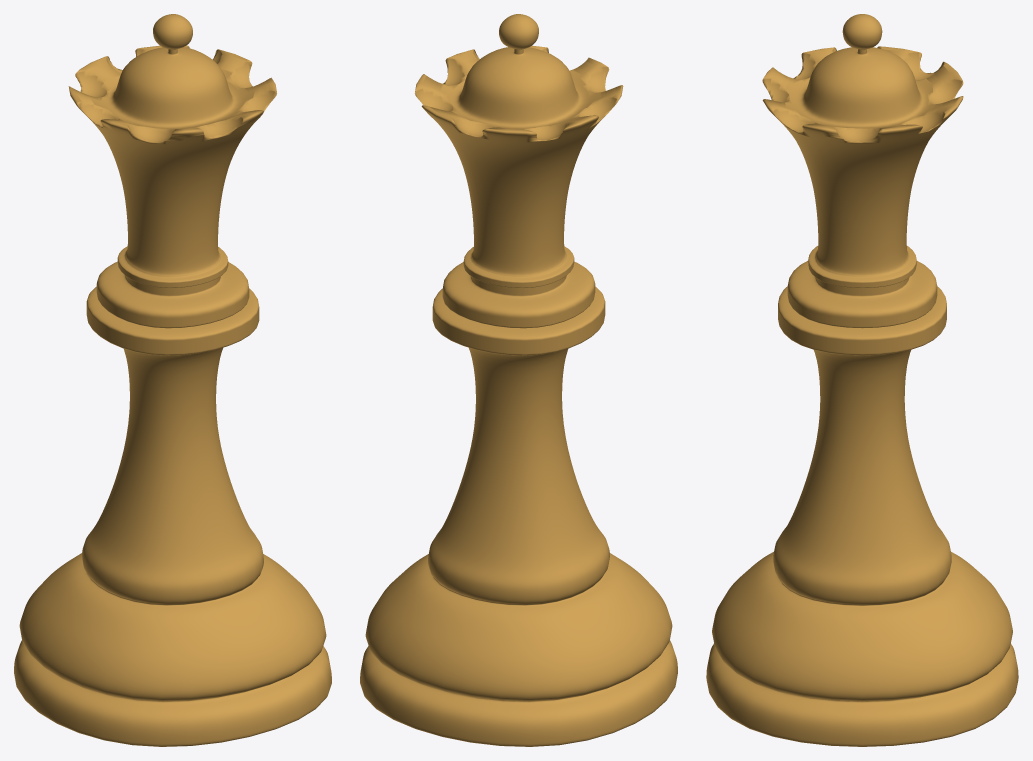
File: queen.obj
3 renders of one model, left to right at view 1: azimuth 30°, elevation 25°; view 2: azimuth 150°, elevation 25°; view 3: azimuth 270°, elevation 25°, orthographic.
Visible parts, largest first — view 1: dame.003; view 2: dame.003; view 3: dame.003.
Part boxes in pixels (box(x1,y1,x2,y2)): dame.003: box(14, 14, 331, 746); dame.003: box(360, 14, 677, 746); dame.003: box(706, 14, 1018, 746).
Size of the model in its own units: 0.4227 by 0.9988 by 0.4227.
